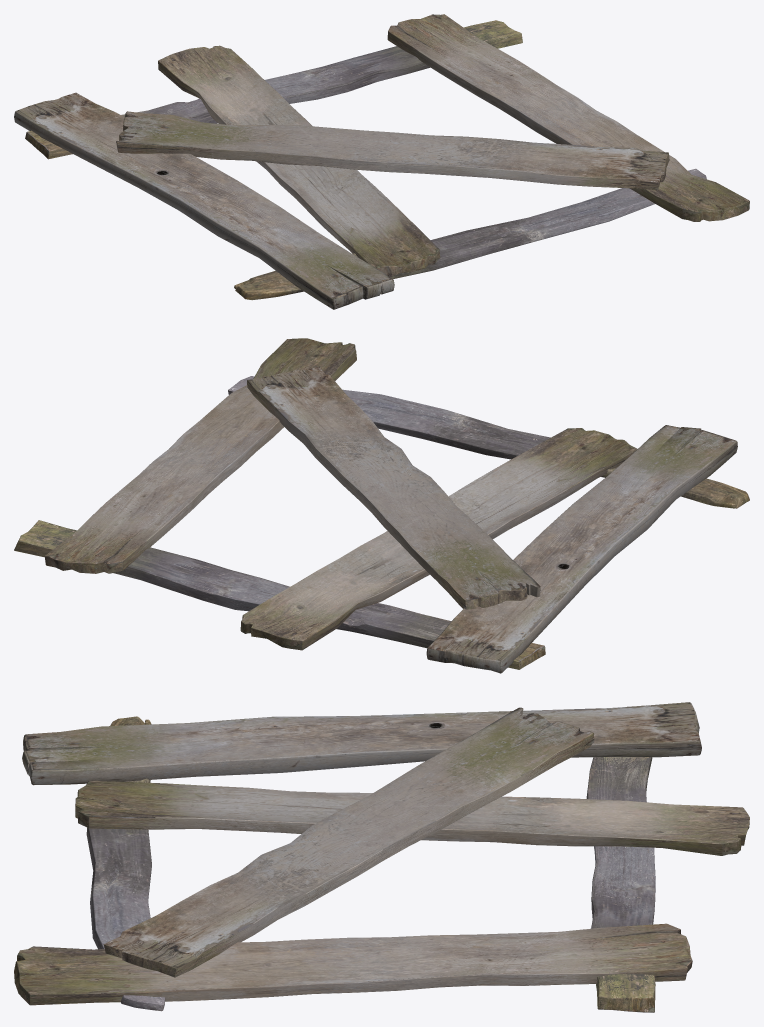
Rendered from SM_WoodPlank_01_13_bridge.fbx.
3 renders of one model, top to bottom at view 1: azimuth 30°, elevation 25°; view 2: azimuth 150°, elevation 25°; view 3: azimuth 270°, elevation 25°, orthographic. The views are drawn at different scales.
Parts seen in each view (by area): view 1: sm_WoodPlank_01_13_bridge_LOD0; view 2: sm_WoodPlank_01_13_bridge_LOD0; view 3: sm_WoodPlank_01_13_bridge_LOD0.
Part boxes in pixels (x1,y1,x2,y2): sm_WoodPlank_01_13_bridge_LOD0: [14, 14, 749, 309]; sm_WoodPlank_01_13_bridge_LOD0: [14, 338, 749, 673]; sm_WoodPlank_01_13_bridge_LOD0: [14, 702, 749, 1012].
Size of the model in its own units: 162 by 150 by 11.59.
